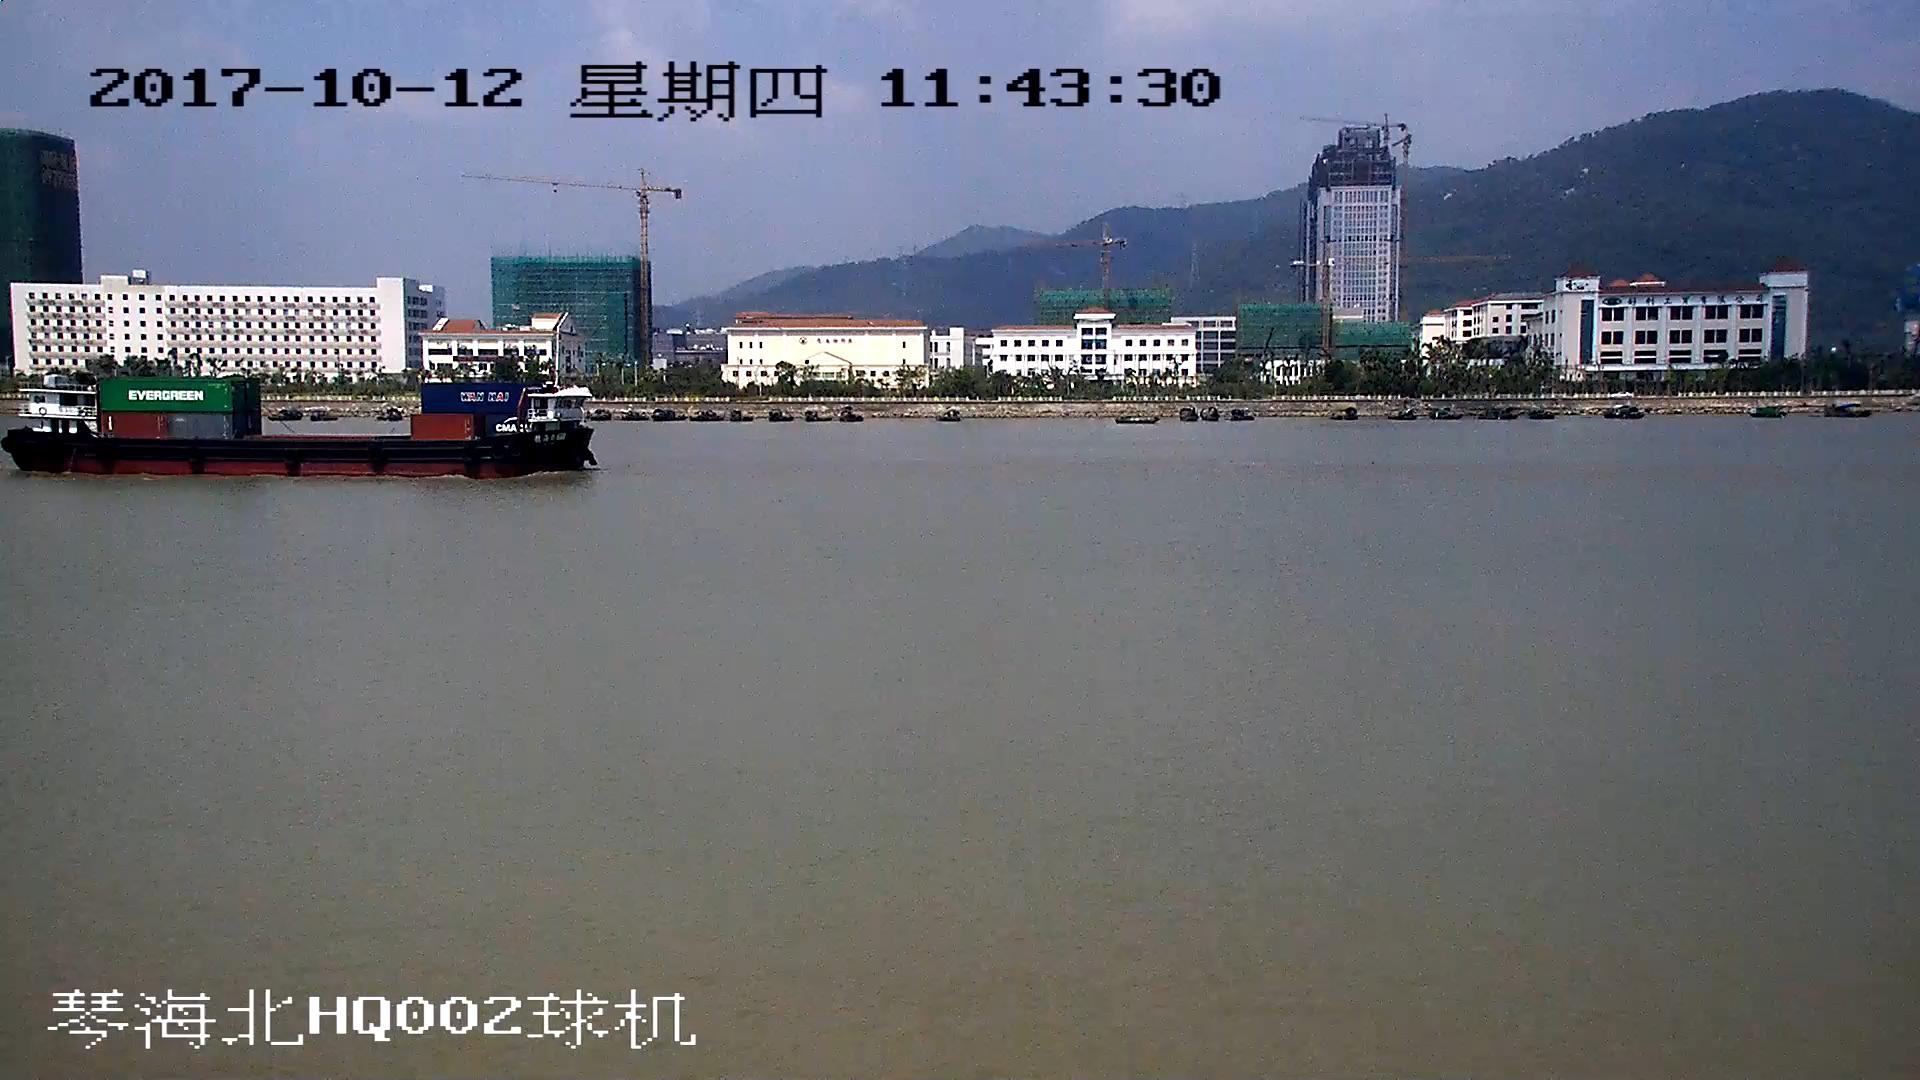container ship: (1, 377, 597, 478)
